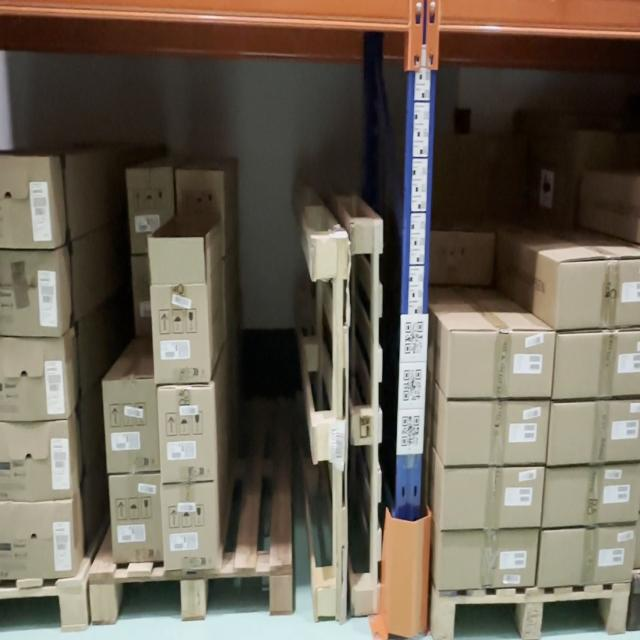box: (150, 244, 208, 381), (450, 331, 552, 398), (448, 404, 549, 464), (445, 468, 543, 527), (157, 388, 217, 481), (538, 530, 638, 585), (442, 532, 539, 587), (109, 475, 164, 568), (104, 379, 158, 473), (163, 477, 220, 560)
